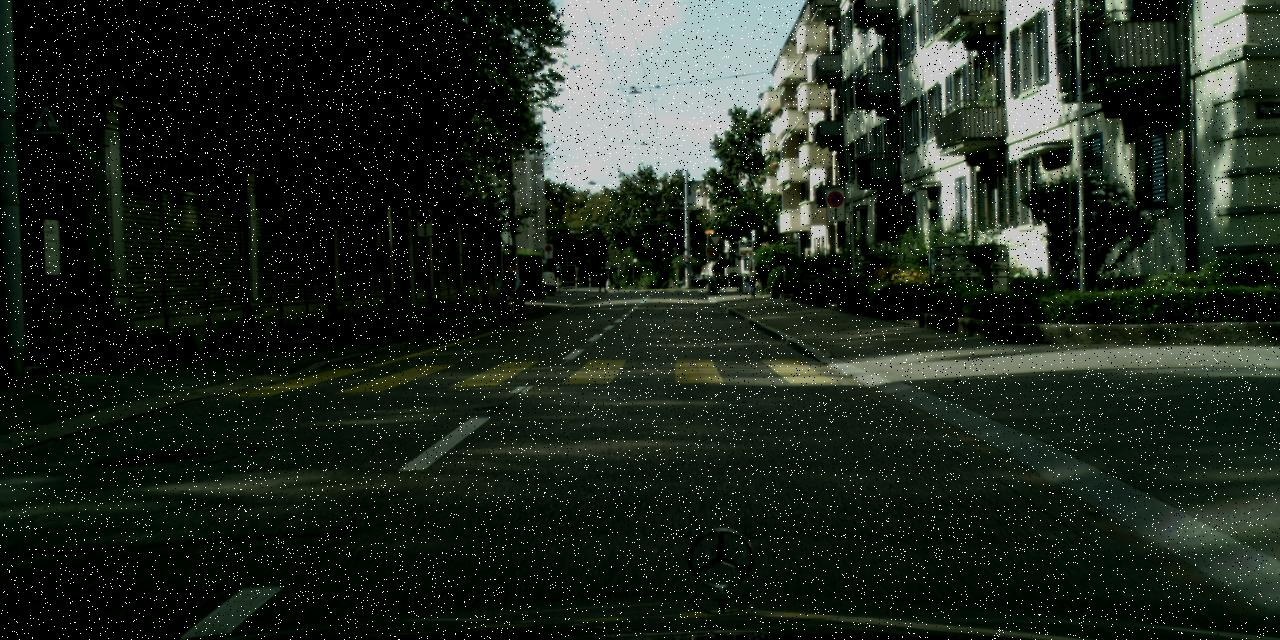ped: (500, 261, 521, 313), (746, 266, 758, 296), (597, 268, 607, 292)
